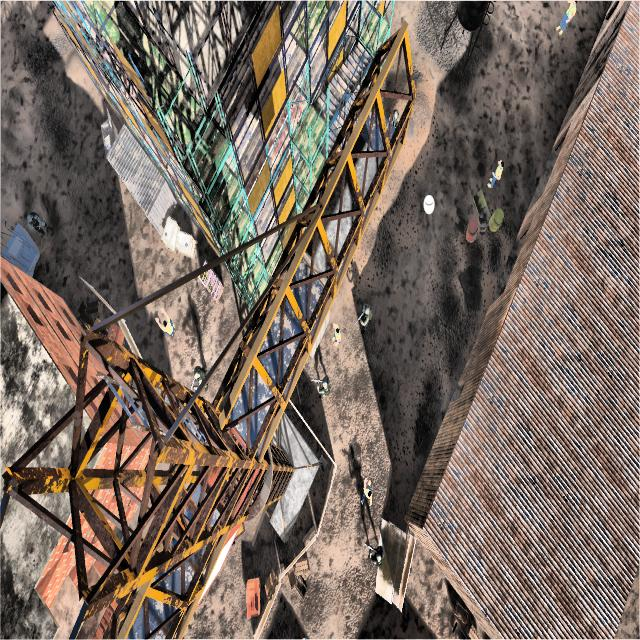bad: (22, 197, 56, 242), (359, 538, 385, 575), (186, 358, 210, 392), (355, 304, 381, 335), (311, 370, 332, 402), (389, 110, 402, 126)
good: (152, 304, 180, 342), (482, 151, 507, 191), (556, 0, 579, 42), (358, 476, 378, 517), (330, 315, 344, 353)
